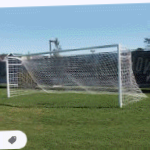goals: (3, 42, 149, 108)
